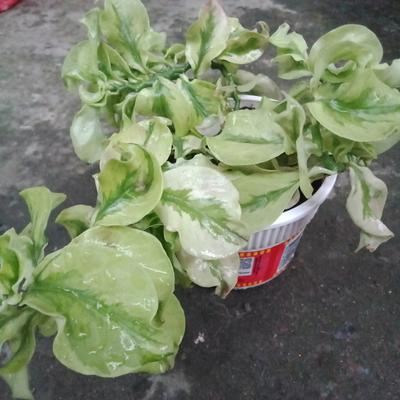Pothos plant: (74, 9, 388, 280)
